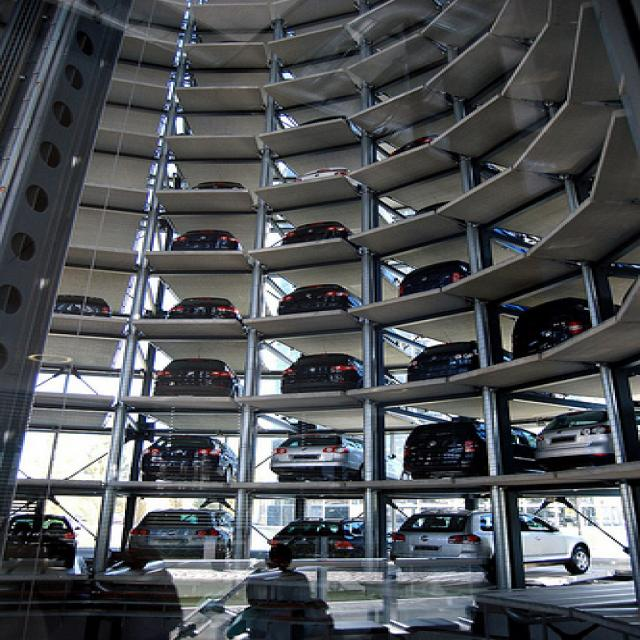Car: (384, 511, 590, 588), (494, 289, 632, 369), (398, 418, 538, 484), (514, 404, 640, 474), (265, 425, 375, 483), (124, 509, 243, 562), (265, 521, 389, 571), (5, 512, 89, 572), (135, 441, 242, 488), (387, 334, 488, 380), (152, 353, 242, 399), (270, 215, 380, 252), (265, 278, 363, 318), (282, 350, 368, 394), (160, 287, 250, 321), (168, 225, 261, 257), (402, 262, 475, 295)
